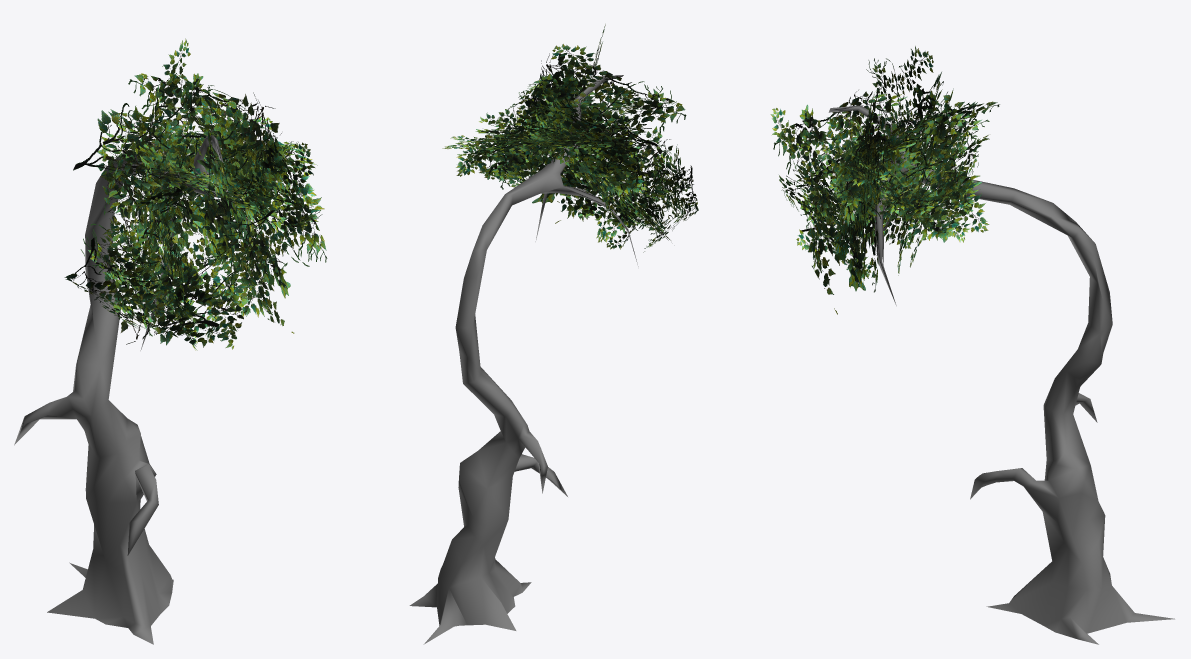
Rendered from grantree_lod2.fbx.
3 renders of one model, left to right at view 1: azimuth 30°, elevation 25°; view 2: azimuth 150°, elevation 25°; view 3: azimuth 270°, elevation 25°, orthographic. The views are drawn at different scales.
Visible parts, largest first — view 1: Default_Layer; view 2: Default_Layer; view 3: Default_Layer.
Part boxes in pixels (bbox=[...]): Default_Layer: bbox=[14, 38, 327, 644]; Default_Layer: bbox=[409, 24, 698, 644]; Default_Layer: bbox=[770, 46, 1174, 644].
Bounding box in the file's own units: 1028 × 1954 × 1304.
